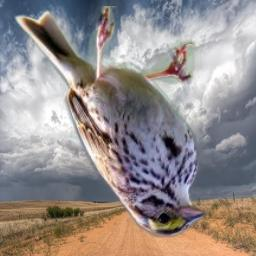Sparrow: (14, 6, 207, 238)
